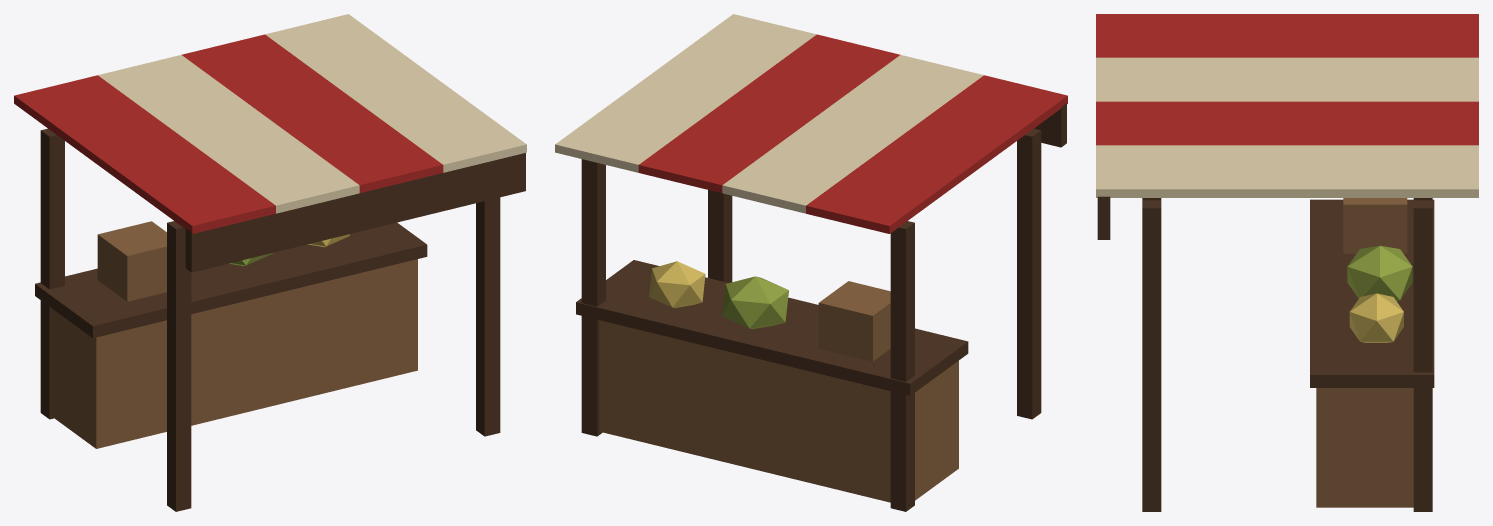
The model's file is prop_stall.glb.
3 views of the same model, side by side, from view 1: azimuth 30°, elevation 25°; view 2: azimuth 150°, elevation 25°; view 3: azimuth 270°, elevation 25° (orthographic). The views are drawn at different scales.
Visible parts, largest first — view 1: prop_stall; view 2: prop_stall; view 3: prop_stall.
Part boxes in pixels (bbox=[...]): prop_stall: bbox=[14, 14, 526, 511]; prop_stall: bbox=[555, 14, 1067, 511]; prop_stall: bbox=[1096, 14, 1478, 511].
Size of the model in its own units: 2.6 by 2.25 by 2.4.
